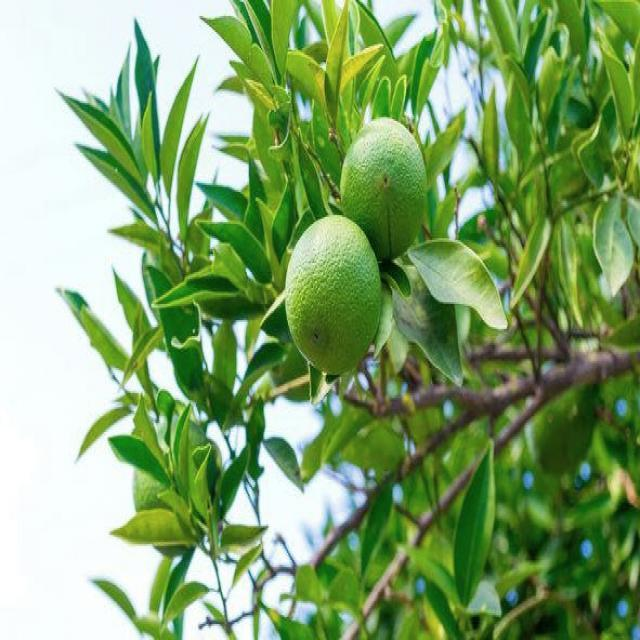Jeruk Belum Matang: (286, 215, 384, 379), (339, 115, 428, 264)
